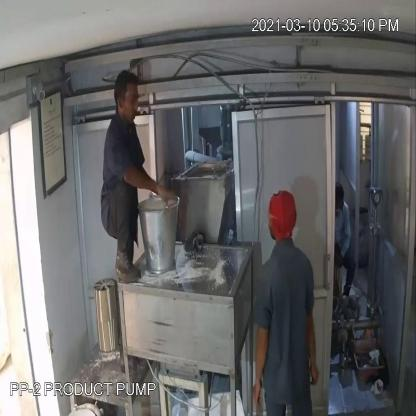no_glove: (113, 142, 173, 214), (300, 288, 326, 391), (250, 302, 274, 409)
